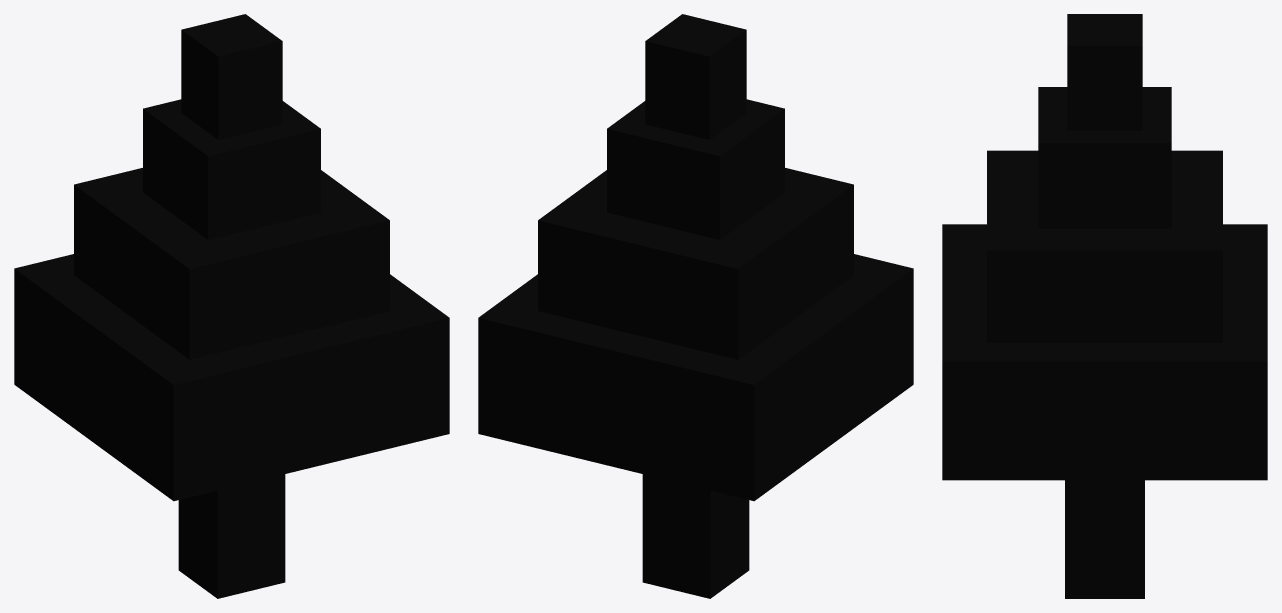
Rendered from tree2.obj.
3 views of the same model, side by side, from view 1: azimuth 30°, elevation 25°; view 2: azimuth 150°, elevation 25°; view 3: azimuth 270°, elevation 25° (orthographic). The views are drawn at different scales.
Parts seen in each view (by area): view 1: Cube.002, Cube.003_Cube.005, Cube.004_Cube.008, Cube.001, Cube.005_Cube.007; view 2: Cube.002, Cube.003_Cube.005, Cube.004_Cube.008, Cube.001, Cube.005_Cube.007; view 3: Cube.002, Cube.003_Cube.005, Cube.004_Cube.008, Cube.001, Cube.005_Cube.007.
Boxes of the visible parts, box(x1,y1,x2,y2) form: Cube.002: box(14, 254, 449, 501); Cube.003_Cube.005: box(74, 168, 389, 359); Cube.004_Cube.008: box(143, 99, 320, 239); Cube.001: box(178, 474, 285, 598); Cube.005_Cube.007: box(181, 14, 282, 139); Cube.002: box(478, 254, 913, 501); Cube.003_Cube.005: box(538, 168, 853, 359); Cube.004_Cube.008: box(607, 99, 784, 239); Cube.001: box(642, 474, 749, 598); Cube.005_Cube.007: box(645, 14, 746, 139); Cube.002: box(942, 224, 1267, 480); Cube.003_Cube.005: box(987, 150, 1222, 342); Cube.004_Cube.008: box(1038, 87, 1171, 228); Cube.001: box(1065, 480, 1144, 598); Cube.005_Cube.007: box(1067, 14, 1142, 130).
Size of the model in its own units: 0.7238 by 1.36 by 0.7238.
